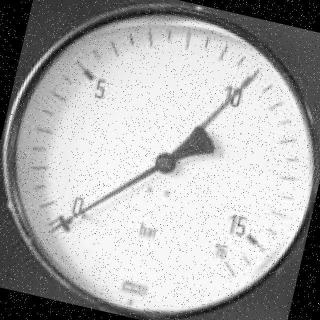gauge: (0, 0, 320, 320), (204, 237, 250, 289), (48, 202, 86, 242), (152, 149, 178, 177), (46, 218, 66, 238), (244, 70, 262, 86)
